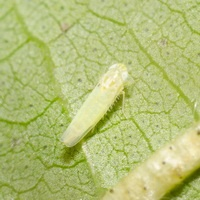insect: (62, 64, 127, 146)
